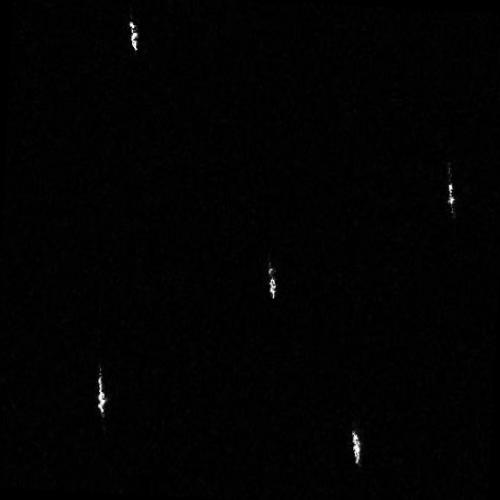ship: (95, 372, 106, 417), (350, 427, 362, 466), (267, 266, 277, 300), (128, 19, 138, 52), (446, 180, 455, 212)
